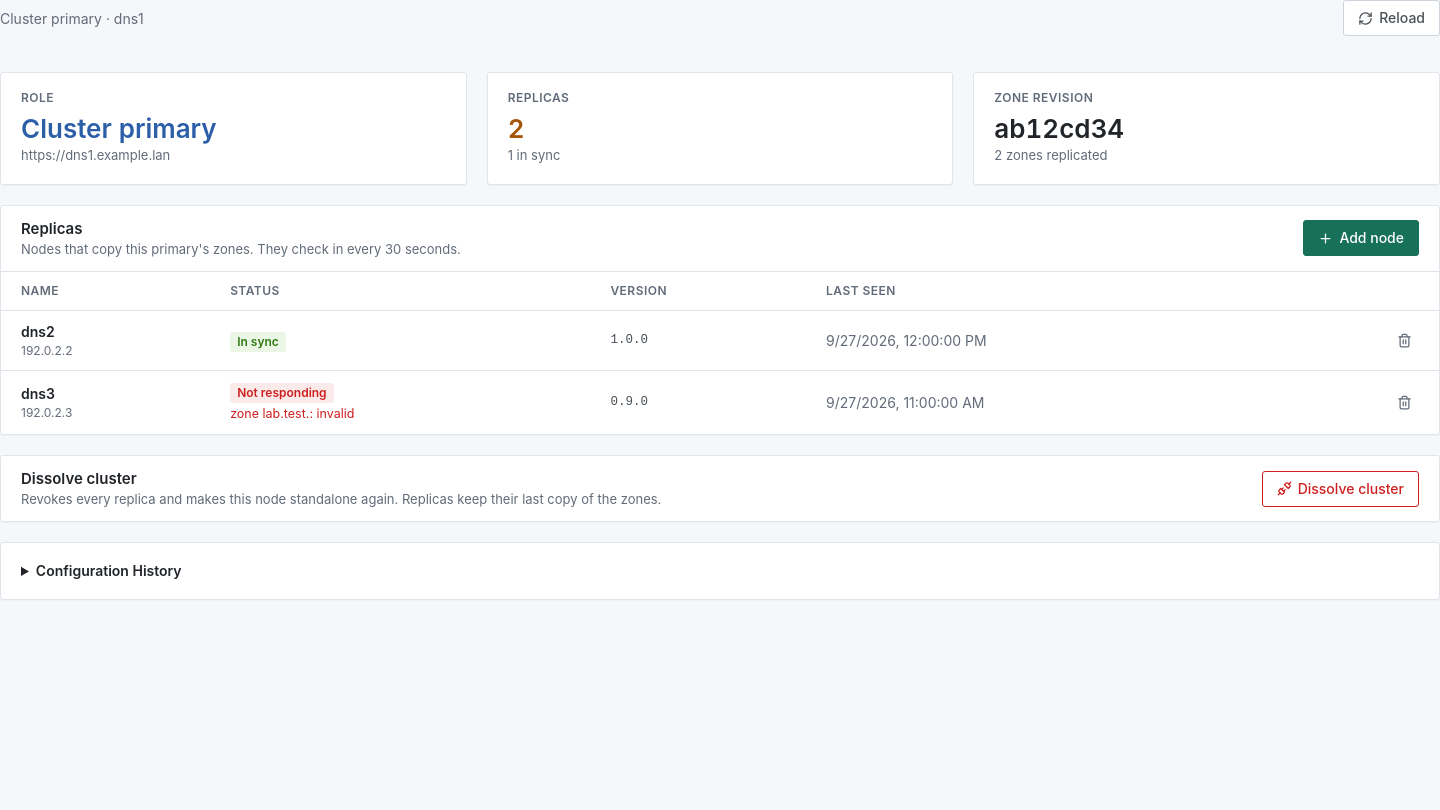
it: shows replicas, issues a one-time token and removes a replica after confirmation
expect the text "In sync" is shown: met, box [230, 332, 286, 352]
expect the text "Not responding" is shown: met, box [230, 383, 334, 403]
Click the button "Add node".
click(1361, 238)  # box [1303, 220, 1419, 256]
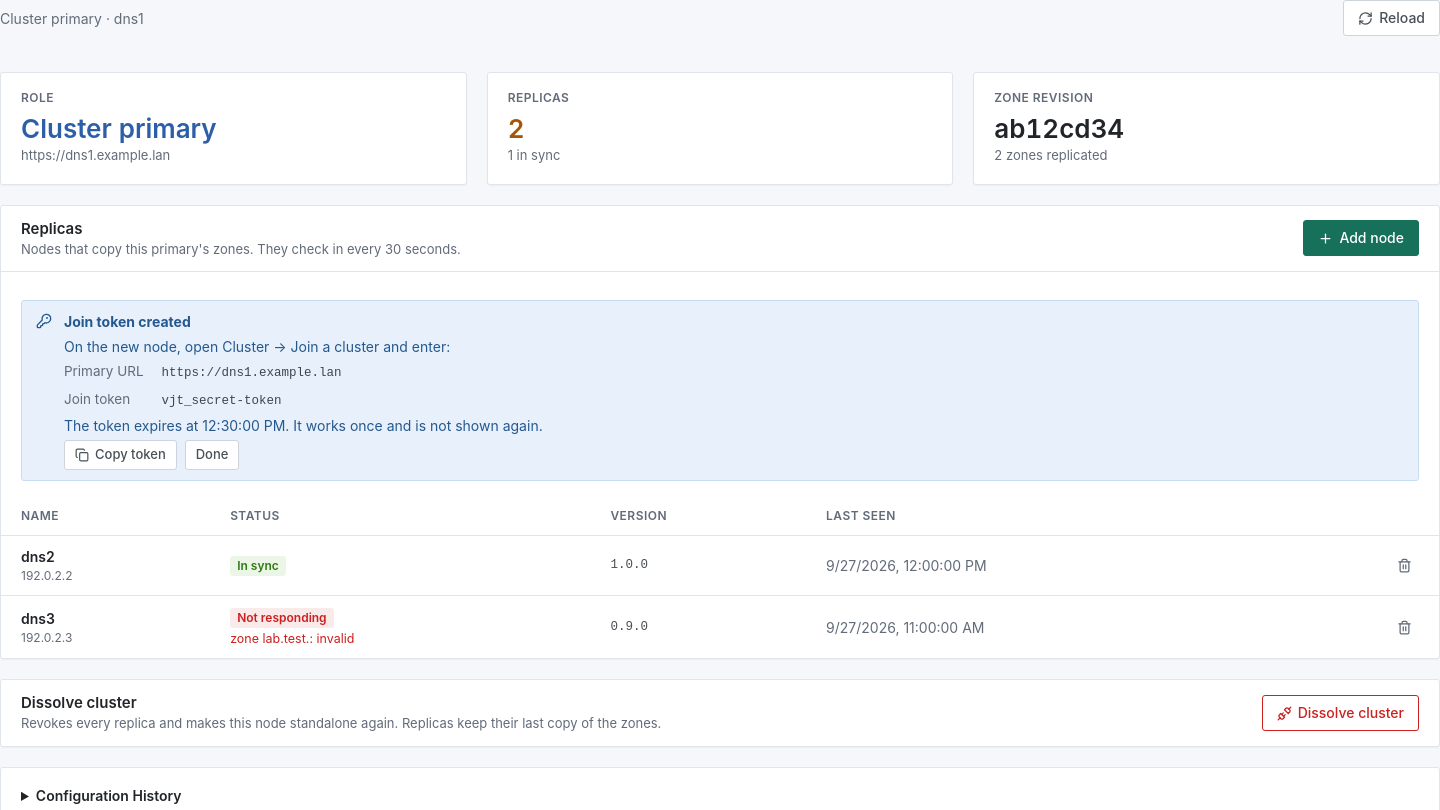
expect the text "vjt_secret-token" is shown: met, box [162, 394, 282, 408]
Click the button "Done".
click(212, 455)  # box [185, 440, 239, 470]
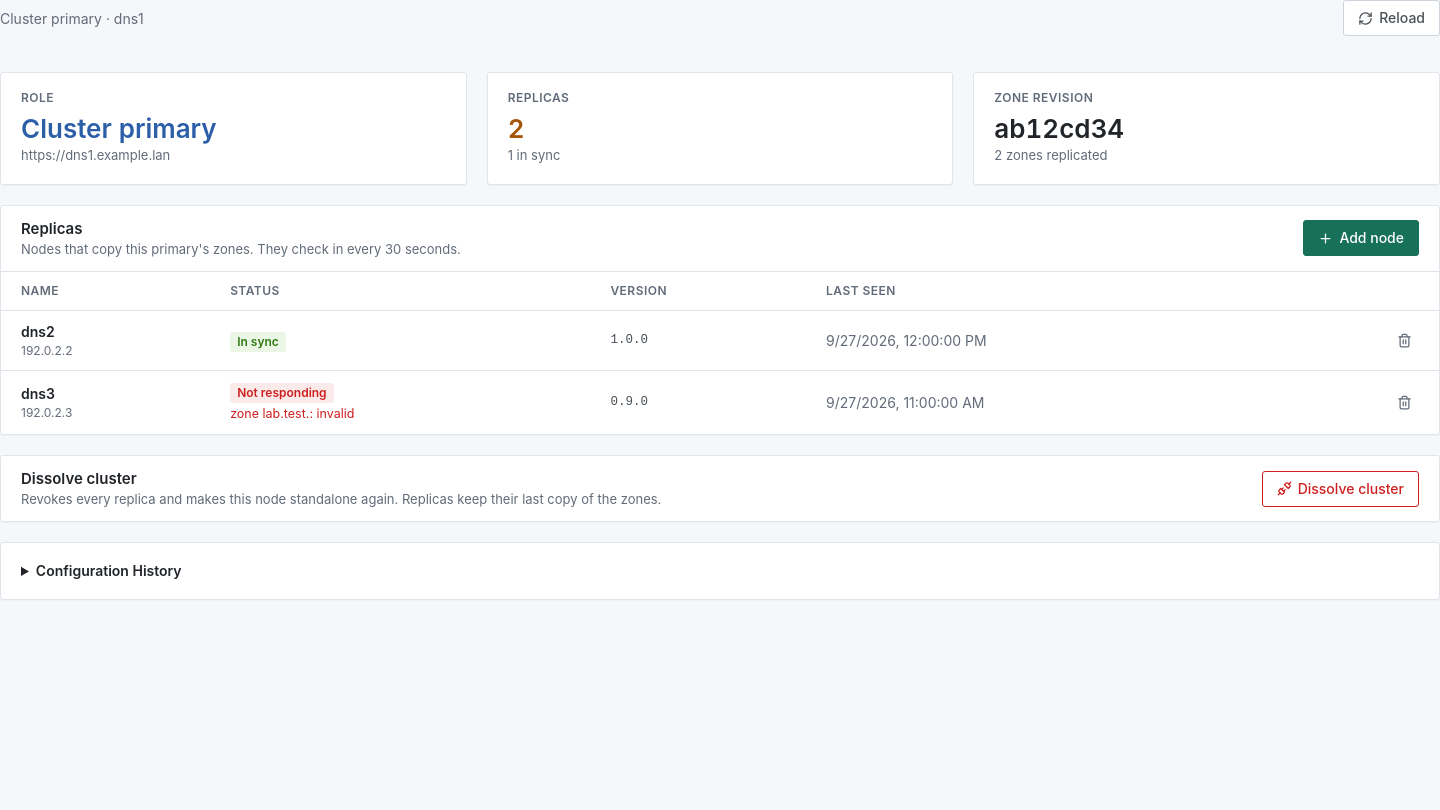
expect the text "vjt_secret-token" is gone: met
Click the button named "Remove node dns3".
click(1404, 403)  # box [1389, 388, 1419, 418]
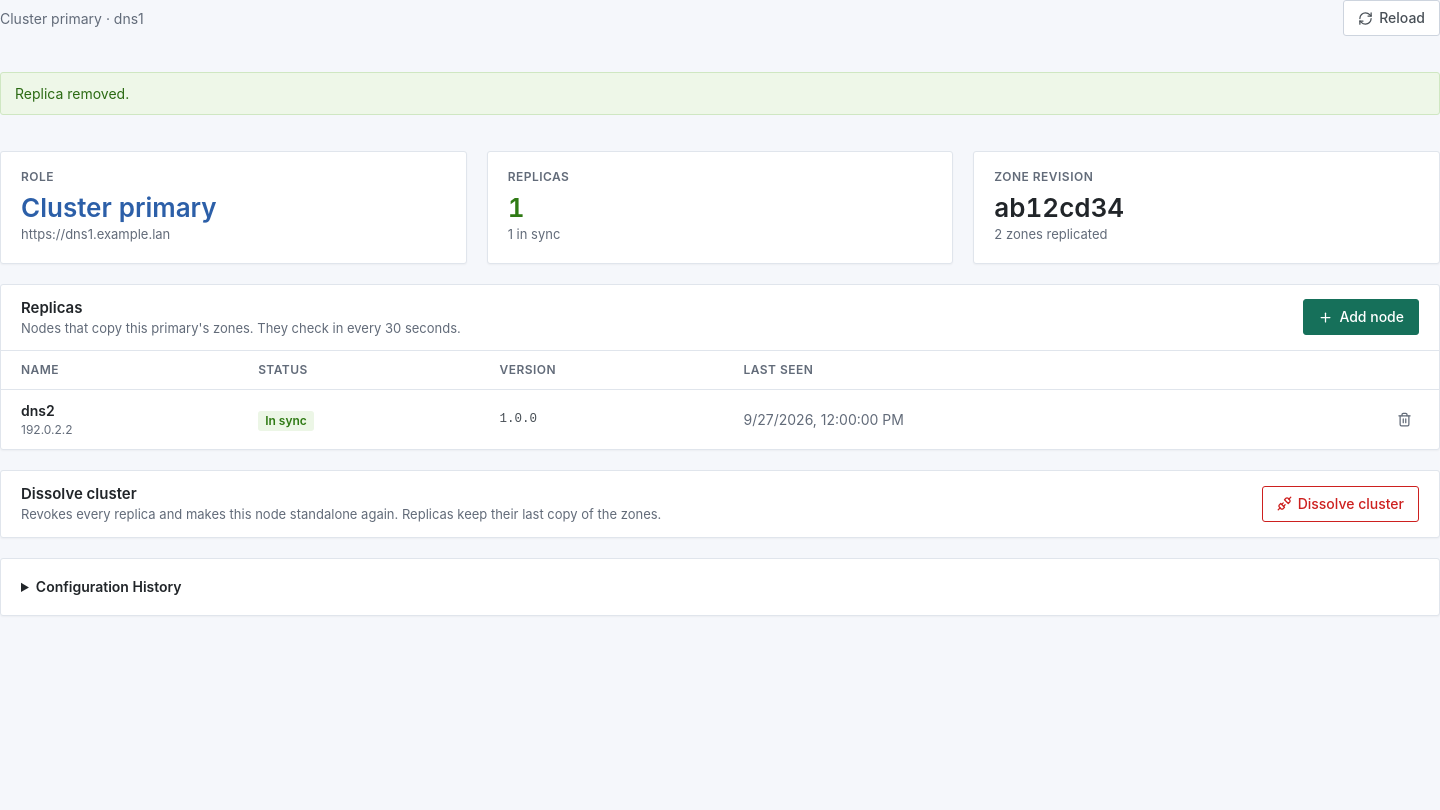
expect the text "dns3" is gone: met
